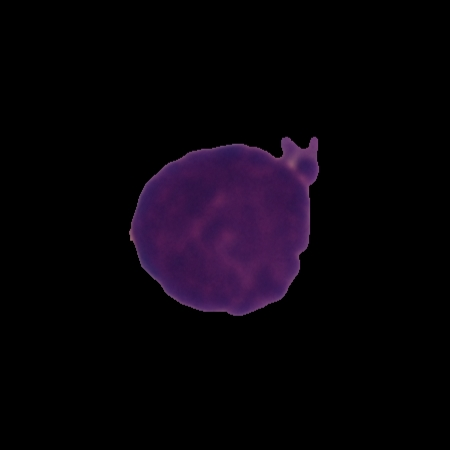HEM: (126, 132, 323, 318)
